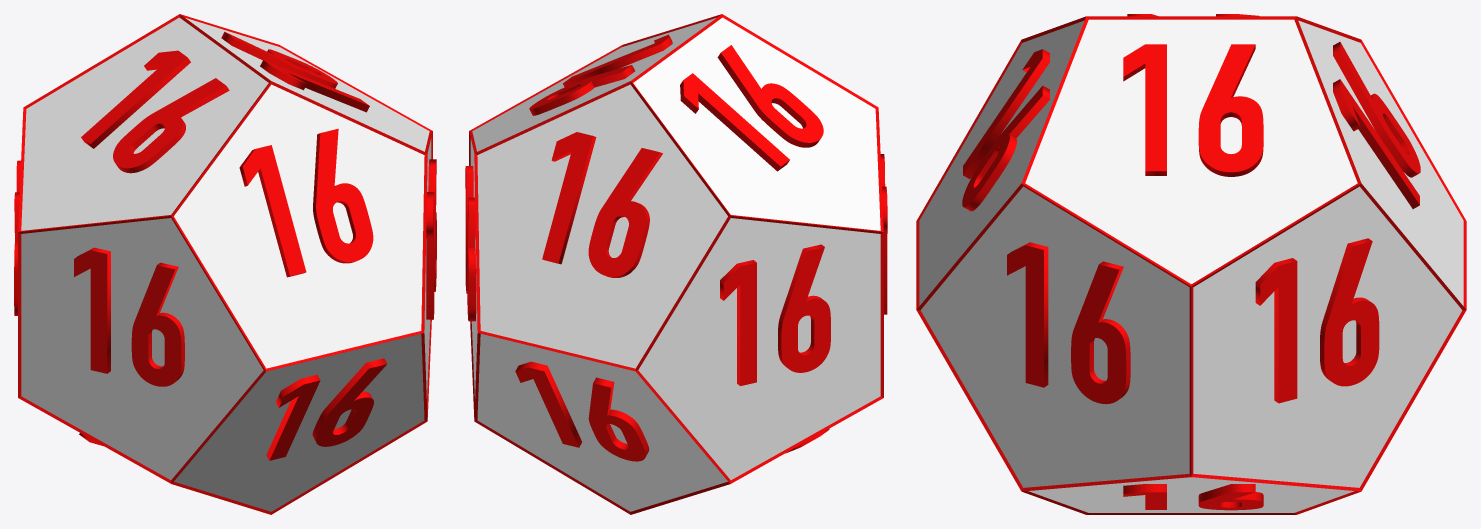
File: dodecahedron_sign-16.glb
3 renders of one model, left to right at view 1: azimuth 30°, elevation 25°; view 2: azimuth 150°, elevation 25°; view 3: azimuth 270°, elevation 25°, orthographic. The views are drawn at different scales.
Parts seen in each view (by area): view 1: Dodecahedron_Solid, Dodecahedron_Wire, Text20_5, Text20_11, Text20_7, Text20_10, Text20_2, Text20_6, Text20_8; view 2: Dodecahedron_Solid, Dodecahedron_Wire, Text20_0, Text20_8, Text20_7, Text20_3, Text20_2, Text20_1, Text20_11; view 3: Dodecahedron_Solid, Dodecahedron_Wire, Text20_1, Text20_6, Text20_2, Text20_0, Text20_5, Text20_4.
Boxes of the visible parts, x1,y1,x2,y2 form: Dodecahedron_Solid: (21,17,431,511); Dodecahedron_Wire: (18,14,432,514); Text20_5: (239,128,373,277); Text20_11: (74,247,184,386); Text20_7: (81,50,229,173); Text20_10: (266,358,386,460); Text20_2: (221,31,369,112); Text20_6: (426,159,436,319); Text20_8: (14,160,20,315); Dodecahedron_Solid: (470,17,880,511); Dodecahedron_Wire: (469,14,883,514); Text20_0: (542,132,662,277); Text20_8: (720,244,830,385); Text20_7: (680,45,823,171); Text20_3: (515,361,649,461); Text20_2: (529,34,672,115); Text20_1: (465,166,476,321); Text20_11: (880,154,887,314); Dodecahedron_Solid: (919,19,1463,512); Dodecahedron_Wire: (916,16,1466,514); Text20_1: (1255,238,1379,403); Text20_6: (1007,242,1130,404); Text20_2: (1123,44,1263,176); Text20_0: (1333,42,1420,208); Text20_5: (962,49,1049,211); Text20_4: (1123,484,1263,510).
Size of the model in its own units: 3.26 by 3.26 by 3.26.
